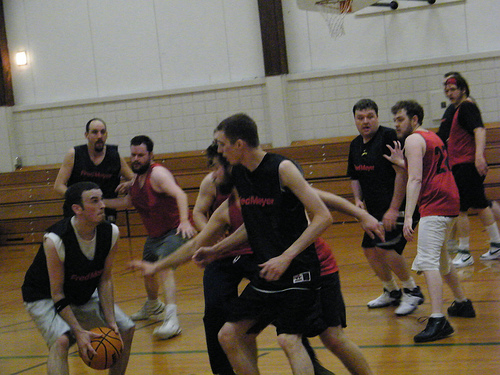basketball: (79, 325, 127, 368)
